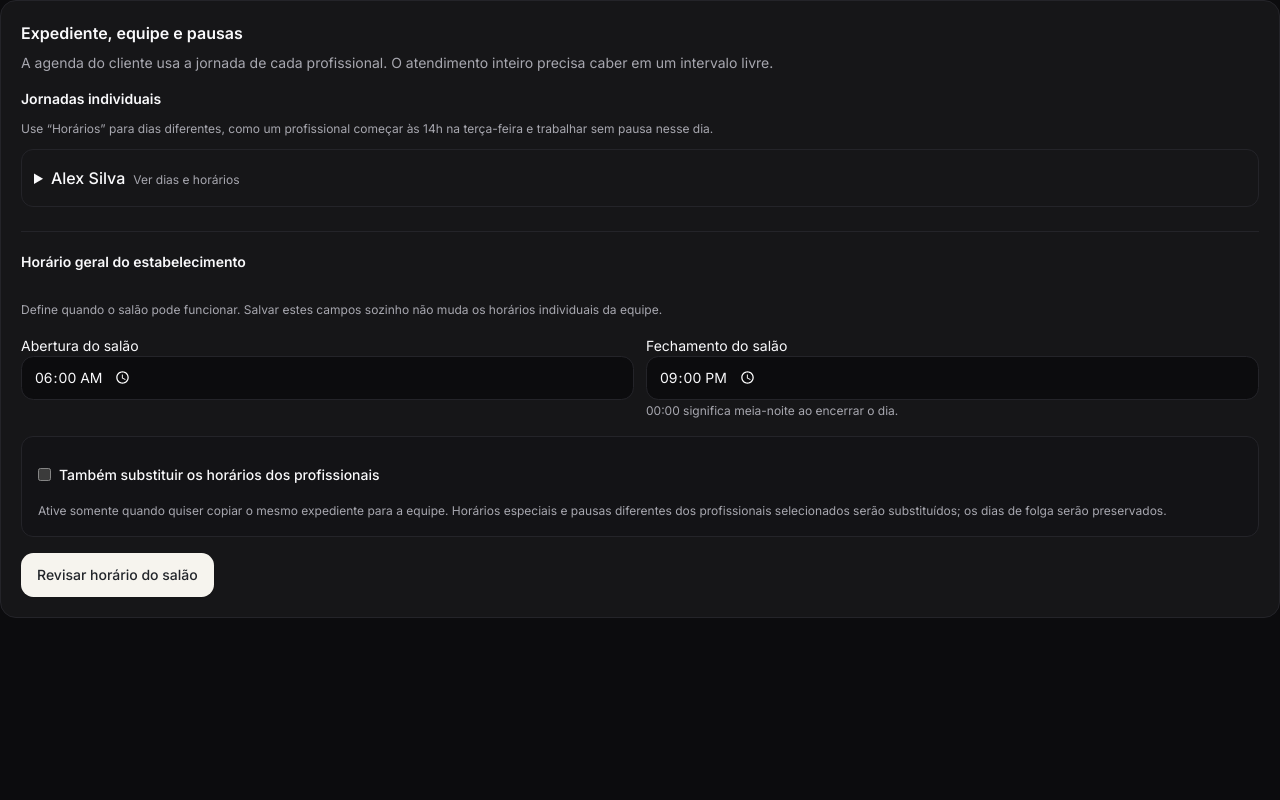
Scenario: configuração clara de salão e jornadas › exige nova revisão quando o horário muda
Click the button "Revisar horário do salão" at [117, 575], box [21, 553, 214, 597]
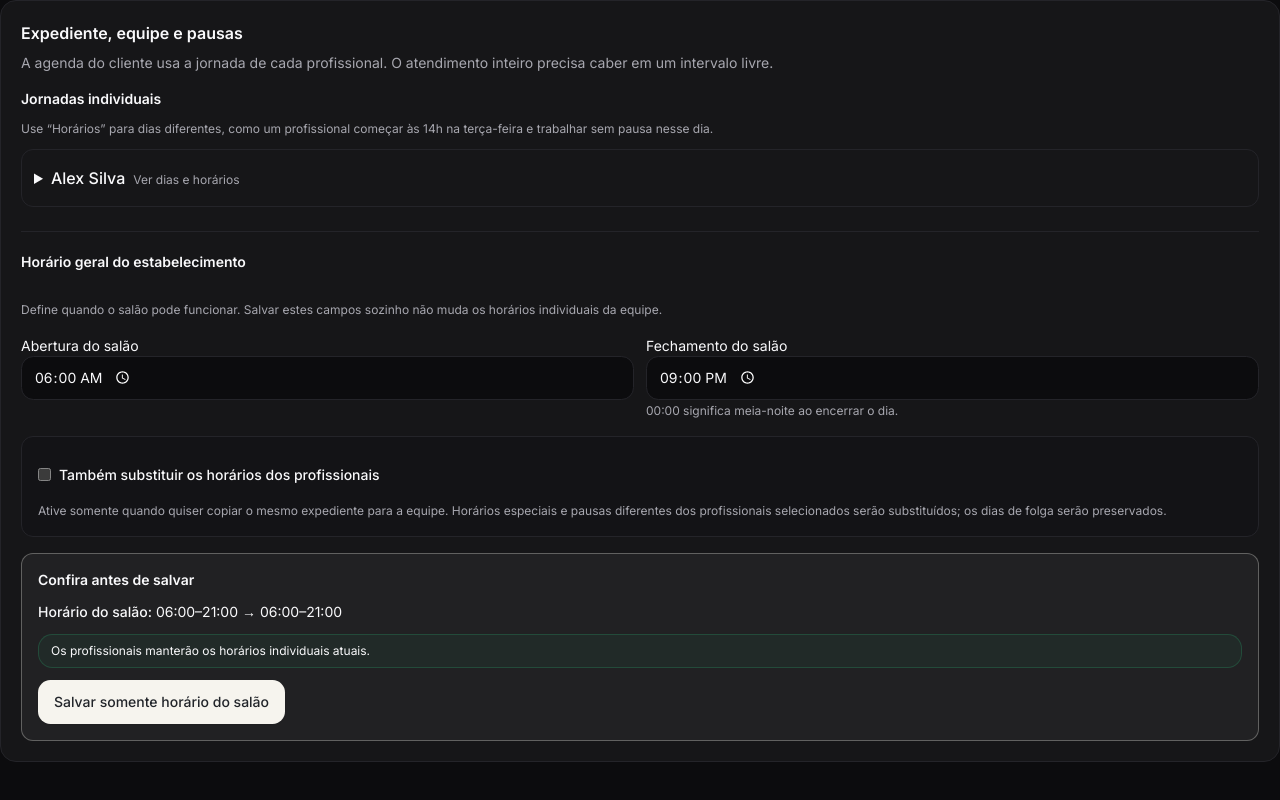
Replace the text in the time field labelled "Fechamento do salão" with "20:00" at [952, 378], box [646, 356, 1259, 400]
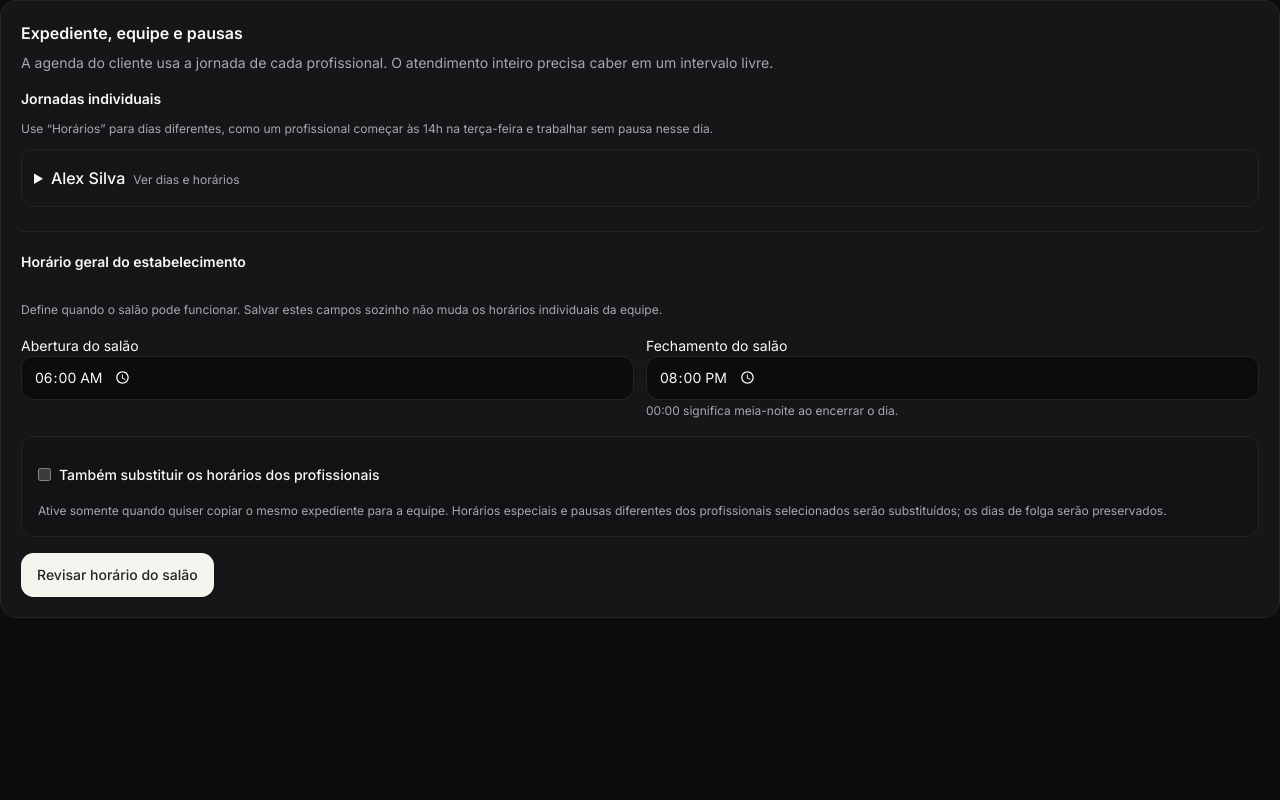
Check: the button "Salvar somente horário do salão" is gone
